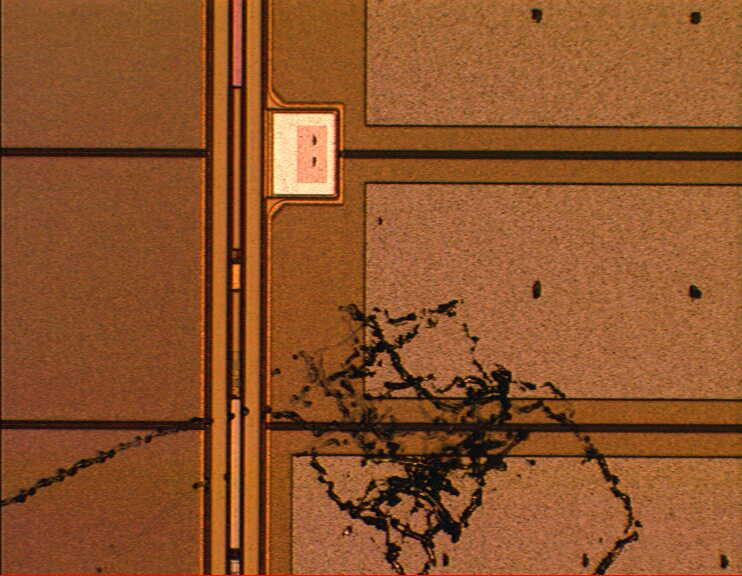SCRATCH: (1, 297, 644, 576)
